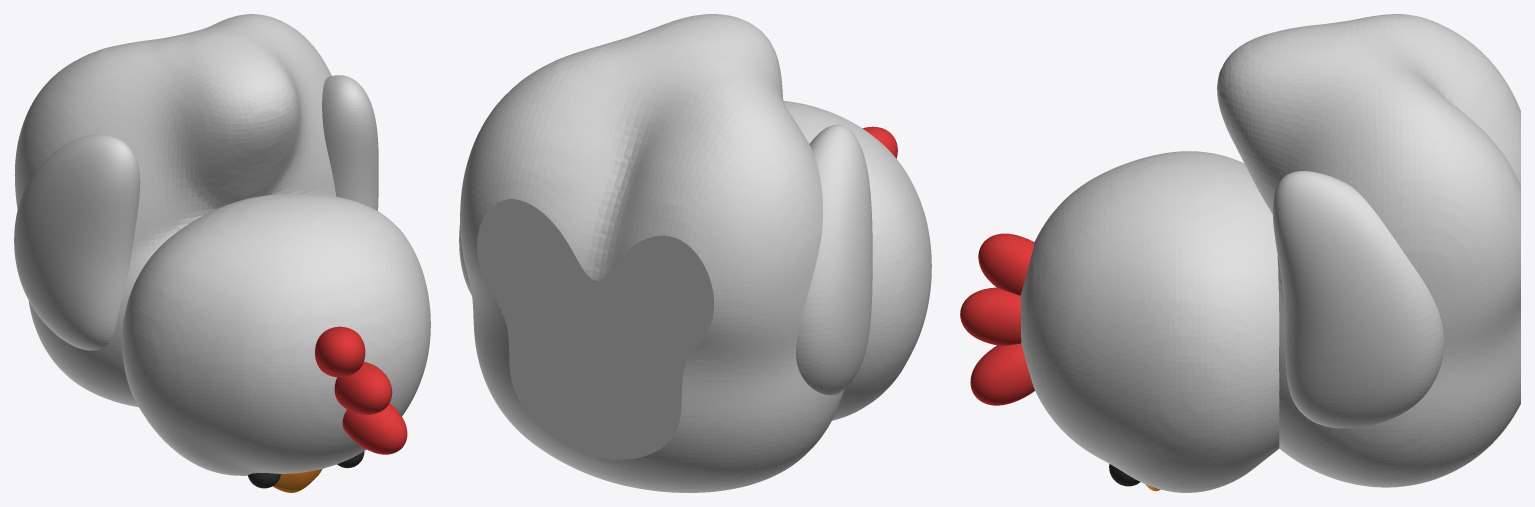
The model's file is chicken.glb.
3 views of the same model, side by side, from view 1: azimuth 30°, elevation 25°; view 2: azimuth 150°, elevation 25°; view 3: azimuth 270°, elevation 25° (orthographic). The views are drawn at different scales.
Parts seen in each view (by area): view 1: Cube.652, Cube.650, Cube.649, Cube.651, Plane.152, Sphere.039; view 2: Cube.650, Cube.649, Cube.652; view 3: Cube.650, Cube.652, Cube.649, Cube.651.
Part boxes in pixels (left/top/right/bottom): Cube.652: left=122, top=193, right=430, bottom=475; Cube.650: left=14, top=14, right=336, bottom=407; Cube.649: left=14, top=75, right=378, bottom=350; Cube.651: left=315, top=326, right=407, bottom=454; Plane.152: left=272, top=469, right=322, bottom=492; Sphere.039: left=248, top=451, right=364, bottom=488; Cube.650: left=460, top=14, right=844, bottom=492; Cube.649: left=459, top=124, right=872, bottom=395; Cube.652: left=783, top=100, right=931, bottom=420; Cube.650: left=1217, top=14, right=1520, bottom=487; Cube.652: left=1020, top=151, right=1279, bottom=492; Cube.649: left=1272, top=171, right=1444, bottom=428; Cube.651: left=960, top=233, right=1034, bottom=405.
Size of the model in its own units: 17.2 by 19.33 by 21.66.
